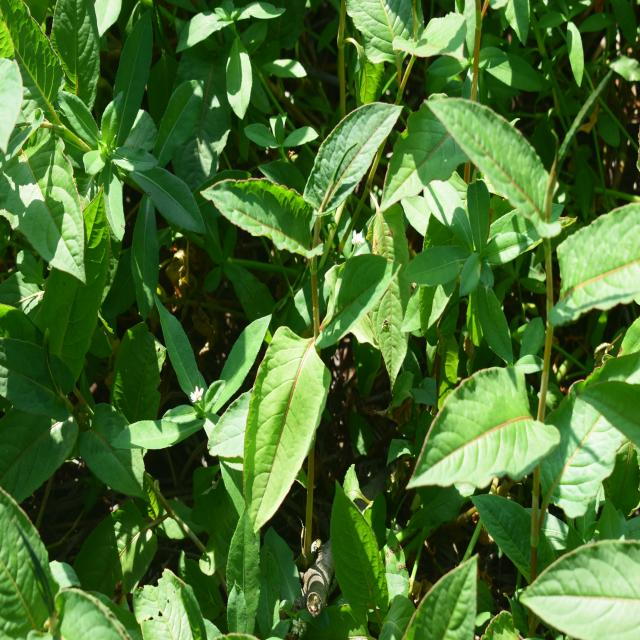Chinese_knotweed: (238, 86, 379, 500)
